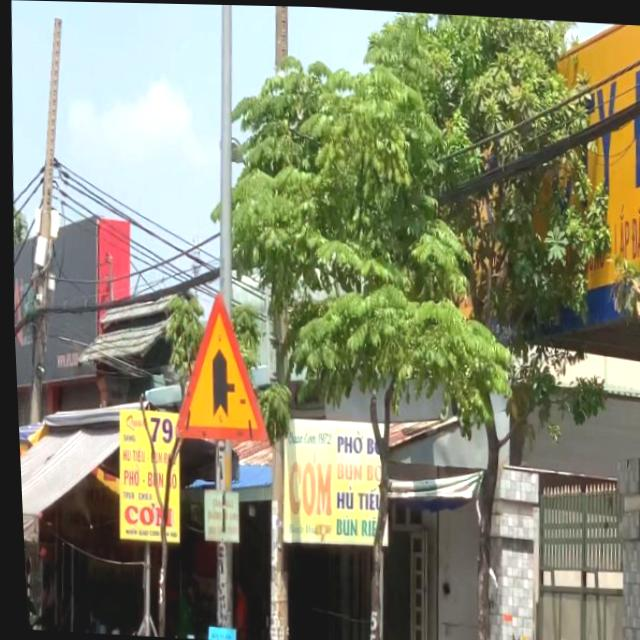Giao nhau voi duong khong uu tien ben phai: (164, 285, 269, 442)
